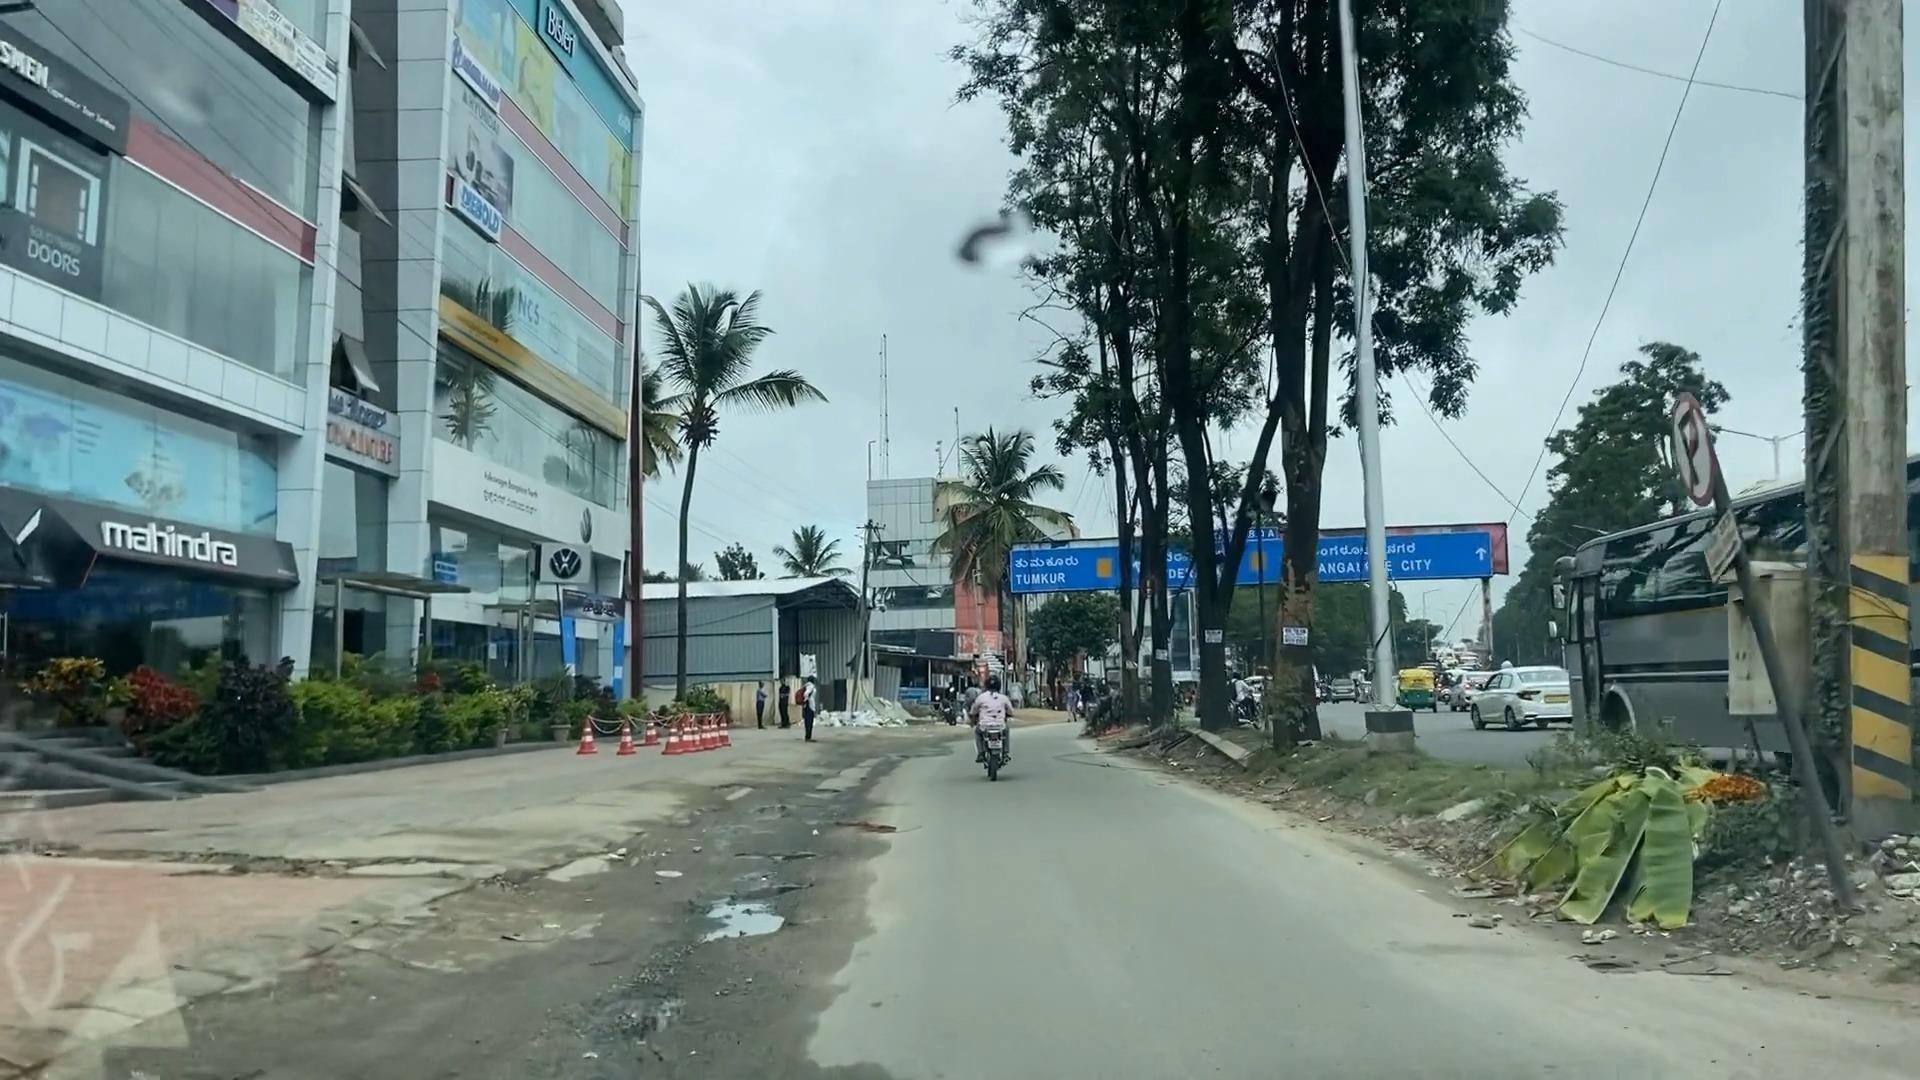RoadDamages: (604, 873, 802, 1048), (727, 794, 895, 870)
